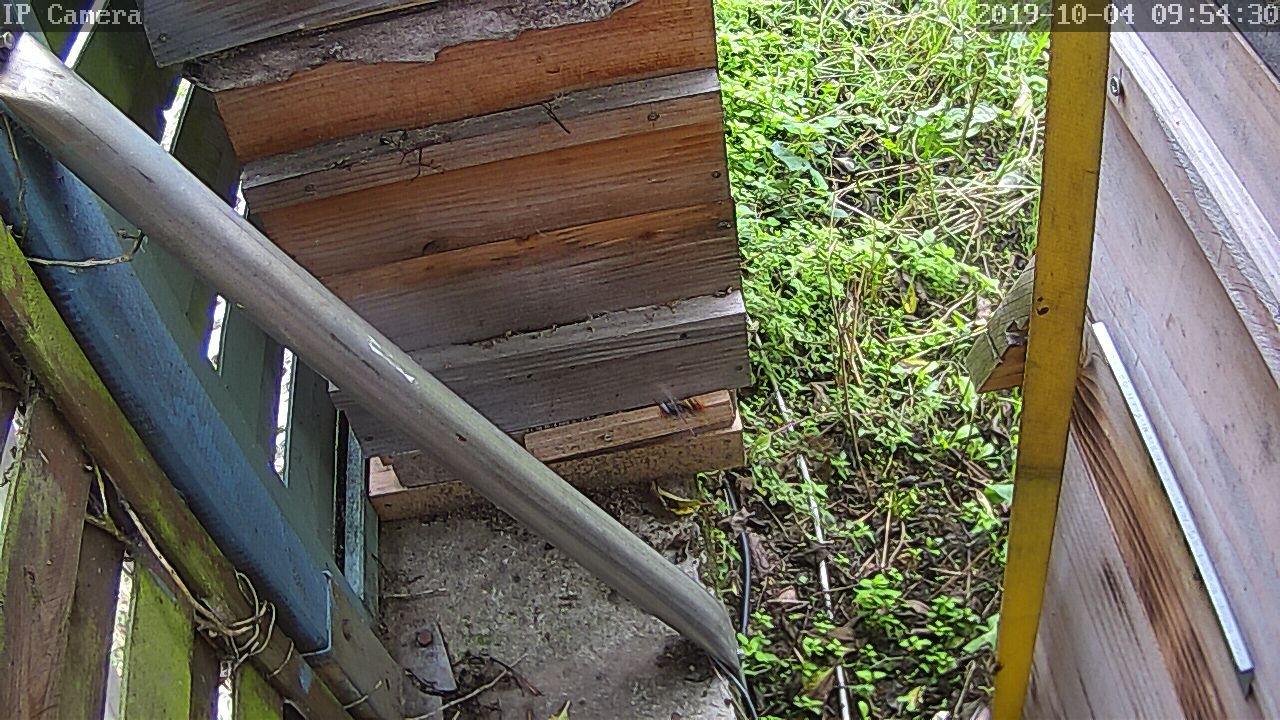hornet: (615, 474, 682, 522), (651, 389, 714, 424), (996, 325, 1025, 369)
